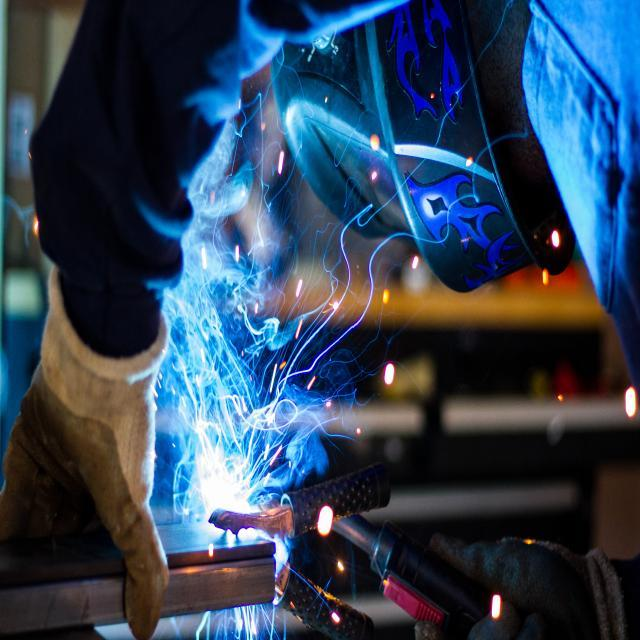with_helmet: (272, 0, 574, 291)
